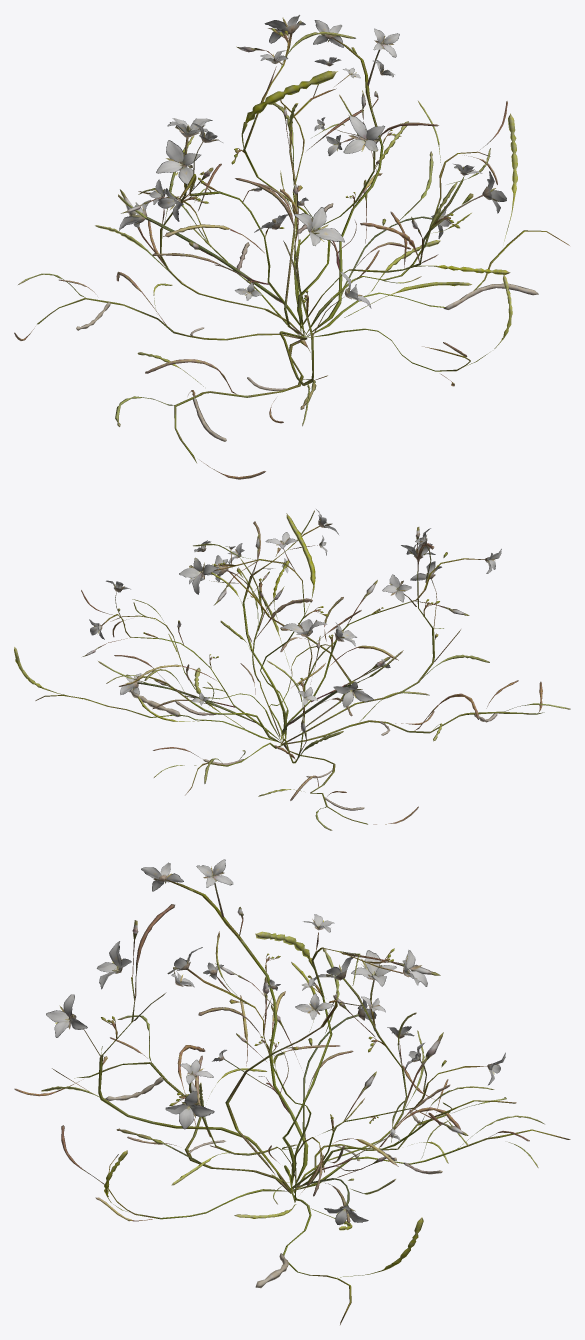
File: flower_heliophila_single_2.fbx
3 views of the same model, one above another, from view 1: azimuth 30°, elevation 25°; view 2: azimuth 150°, elevation 25°; view 3: azimuth 270°, elevation 25° (orthographic). The views are drawn at different scales.
Visible parts, largest first — view 1: flower_heliophila_single_2; view 2: flower_heliophila_single_2; view 3: flower_heliophila_single_2.
Part boxes in pixels (<box>): flower_heliophila_single_2: <box>14,15,569,479</box>; flower_heliophila_single_2: <box>14,509,570,830</box>; flower_heliophila_single_2: <box>14,859,570,1324</box>.
Size of the model in its own units: 0.6729 by 0.3199 by 0.5984.
1 material, 1 textured.
